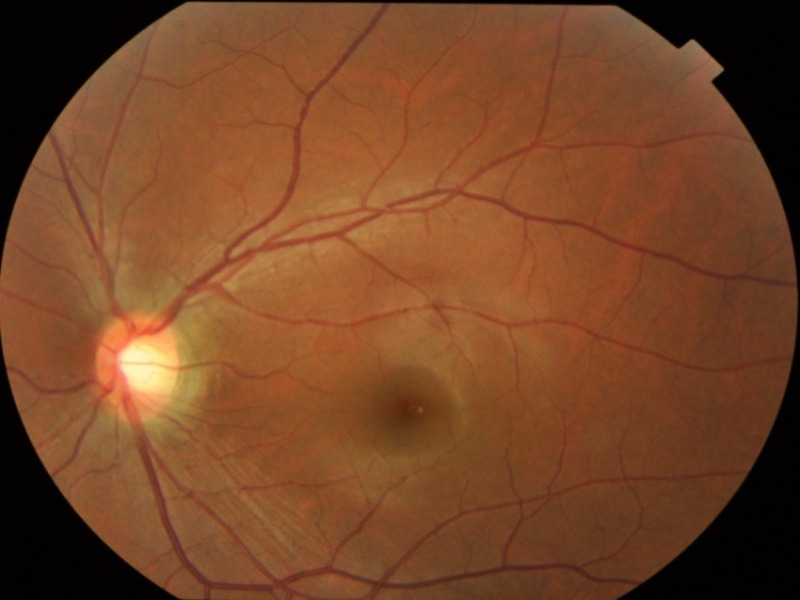Cup Disc: (98, 318, 178, 410)
Optic Cup: (122, 343, 167, 389)
